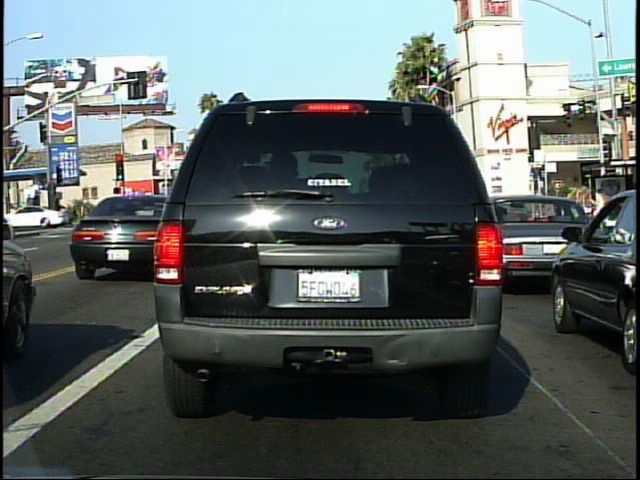person: (589, 184, 611, 240)
